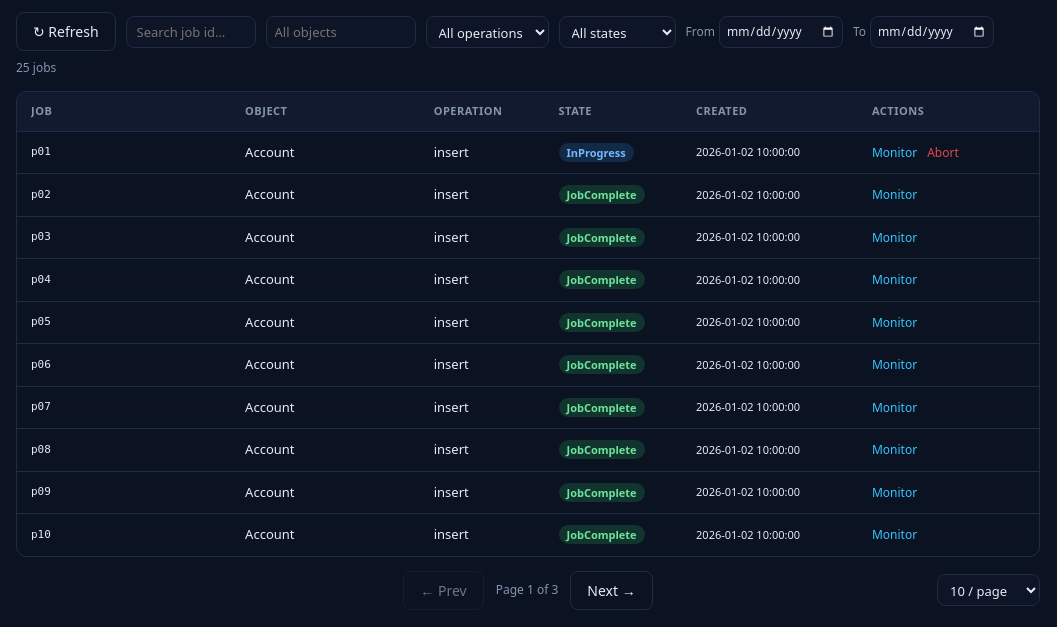
Scenario: JobsPanel › Next advances to the following page
Click the button "Next →": coordinates (612, 590) [570,570,653,610]
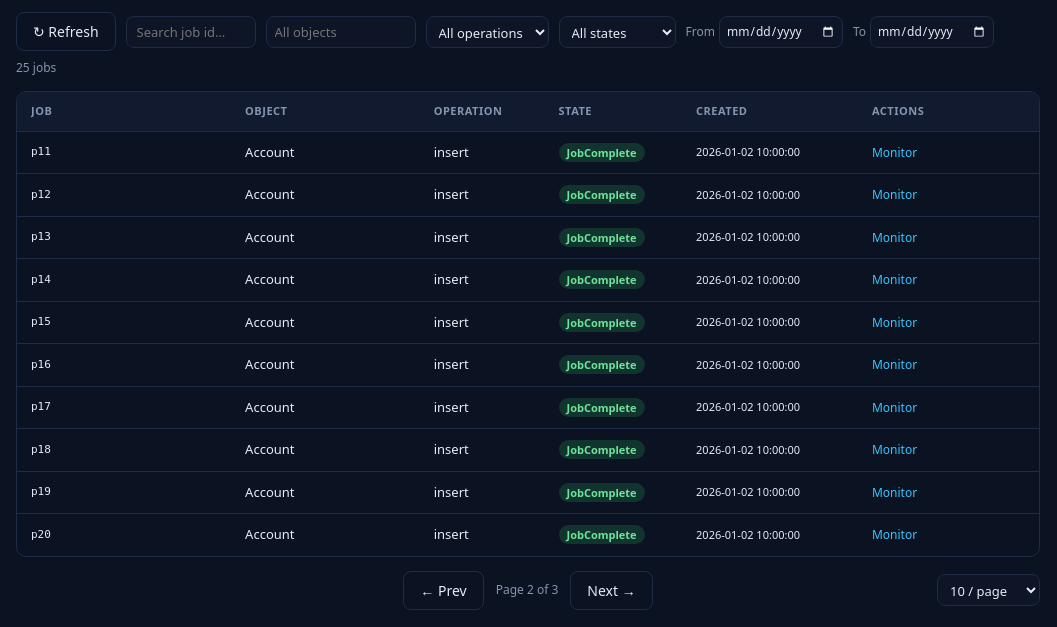
Result: the text "p11" is shown at [31,145,51,158]
Result: the text "p20" is shown at [31,528,51,540]
Result: the text "p10" is gone
